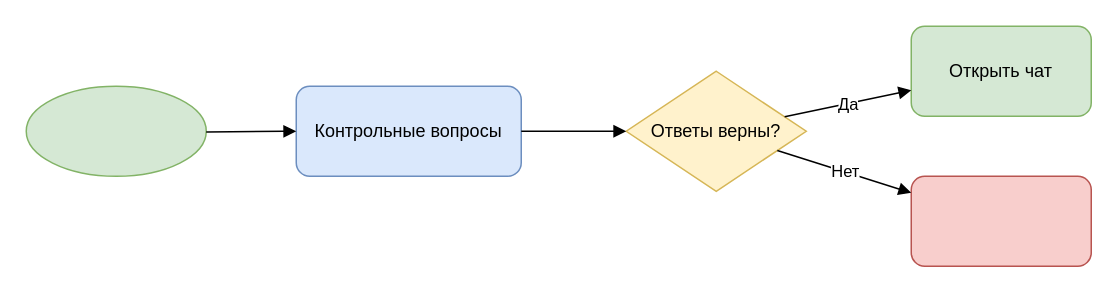
Image size: 1118x293. Some labels were removed from this diagram. The shapes that lost their labels are listed below. From the top down, each one's centre as x and y in pixels, then its label:
At [115,130]: "Отклик создан".
At [1000,220]: "Отклонить".
